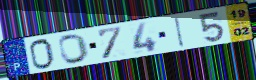0: (28, 37, 56, 70)
4: (131, 21, 161, 53)
5: (197, 9, 226, 43)
7: (97, 25, 124, 61)
I: (174, 15, 186, 49)
O: (57, 33, 91, 65)
